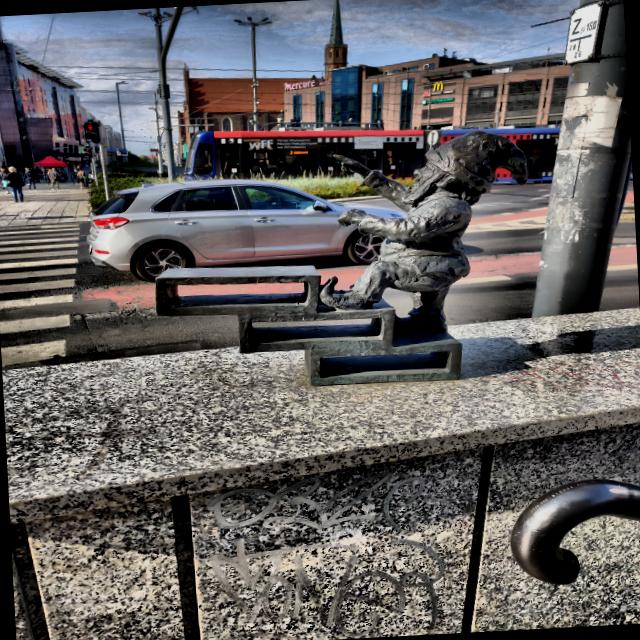Elementek: (155, 131, 528, 385)
